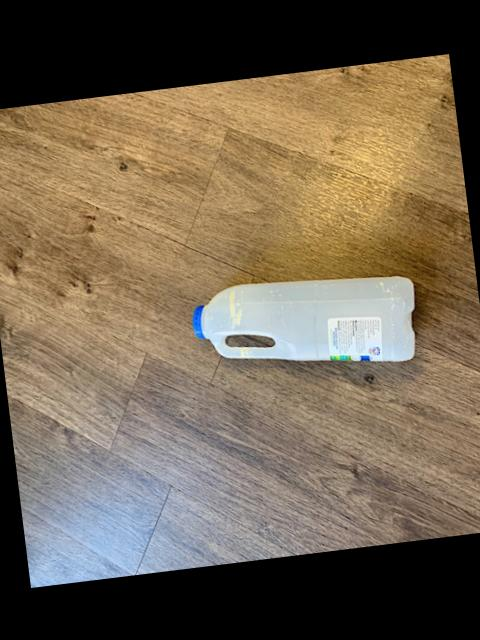plastic: (192, 274, 413, 358)
